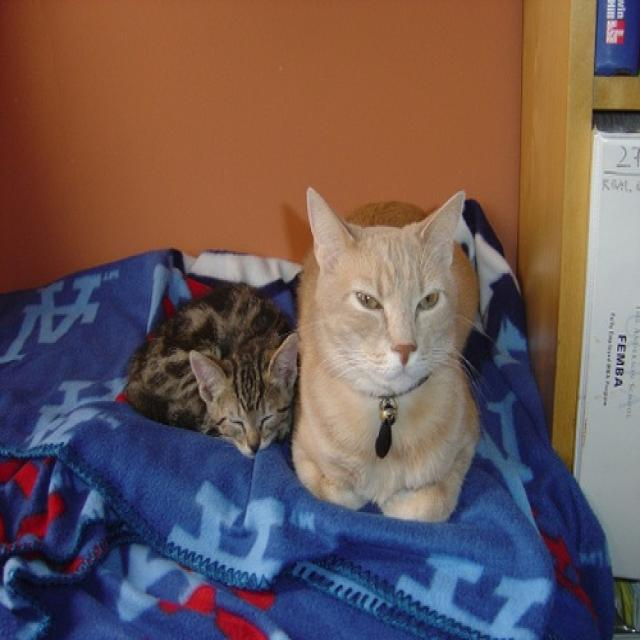cat: (292, 186, 481, 524), (127, 281, 300, 460)
